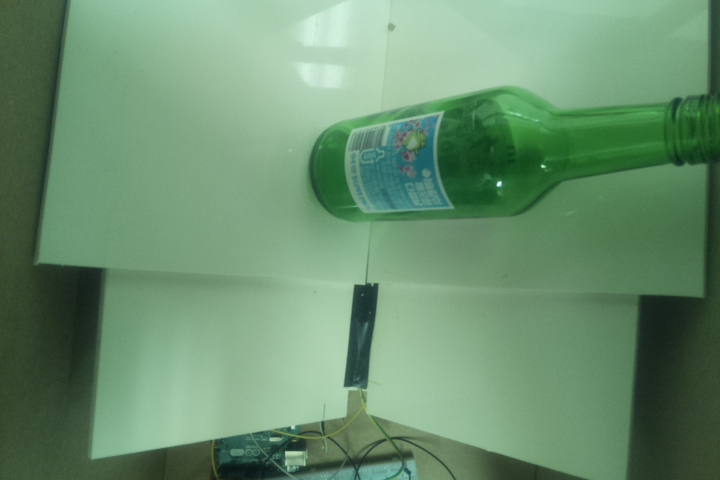soju: (304, 80, 720, 226)
